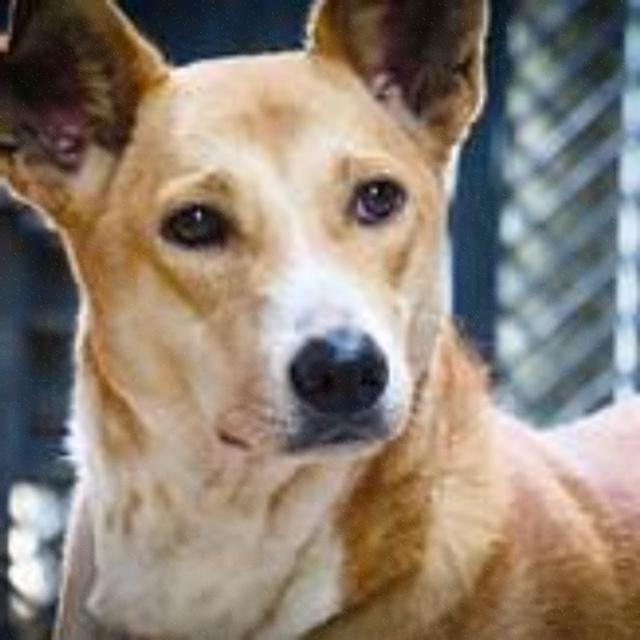dog: (0, 0, 614, 578)
